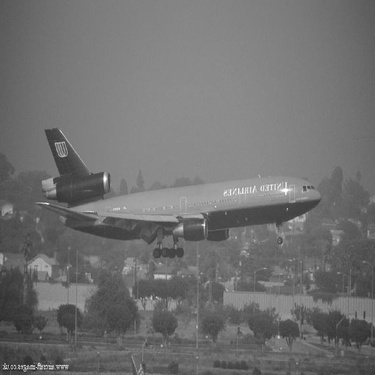airplane: (21, 122, 323, 257)
